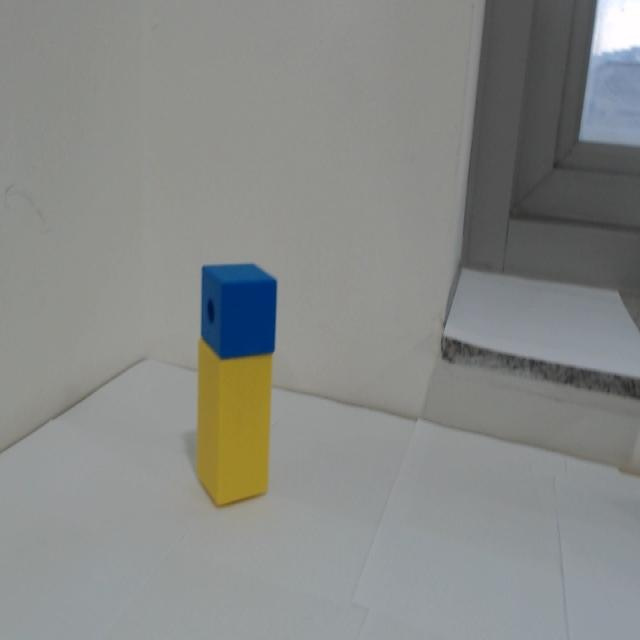cube: (200, 260, 278, 362)
